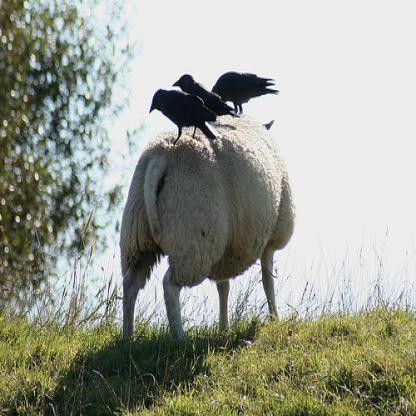bird: (149, 89, 216, 144), (172, 74, 242, 124), (211, 72, 279, 115)
sheep: (118, 113, 294, 344)
